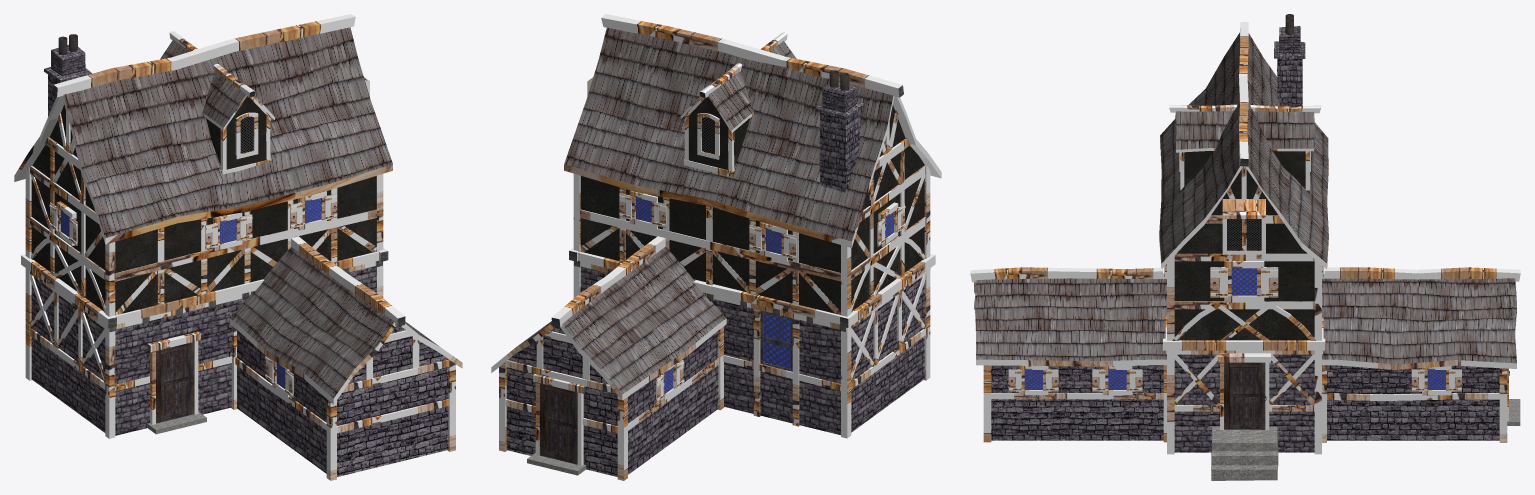
Rendered from casa_medieval_04.glb.
The picture shows the model from 3 angles, left to right: view 1: azimuth 30°, elevation 25°; view 2: azimuth 150°, elevation 25°; view 3: azimuth 270°, elevation 25°; orthographic projection. The views are drawn at different scales.
Visible parts, largest first — view 1: Chimney; view 2: Chimney; view 3: Chimney.
Part boxes in pixels (x1=…): Chimney: x1=14, y1=14, x2=462, y2=480; Chimney: x1=491, y1=14, x2=941, y2=480; Chimney: x1=970, y1=14, x2=1520, y2=480.
Bounding box in the file's own units: 10.13 × 9.79 × 15.09.
13 materials, 13 textured.
